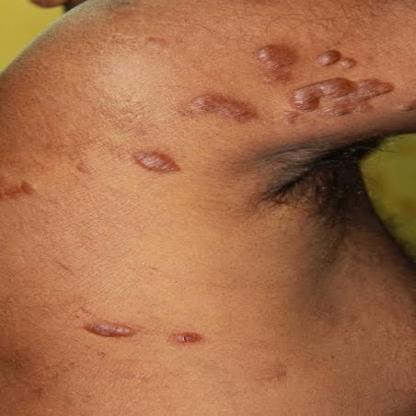Hansen-s Disease-Leprosy: (252, 40, 396, 118), (129, 141, 189, 180), (81, 316, 134, 341)
